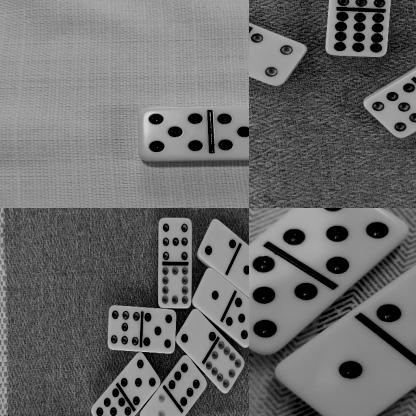pip-1: (275, 324, 416, 416), (193, 267, 232, 315), (233, 247, 249, 297)
pip-10: (206, 338, 245, 394), (159, 263, 192, 307)
pip-12: (327, 8, 391, 57)
pip-2: (198, 218, 236, 269), (176, 308, 217, 354)
pip-3: (141, 391, 178, 416)
pip-4: (249, 31, 307, 85)
pip-5: (283, 208, 408, 278), (249, 253, 319, 354), (377, 256, 416, 361), (142, 106, 212, 160), (212, 103, 249, 159), (121, 353, 160, 404), (142, 308, 176, 354), (226, 294, 249, 347)
pip-6: (168, 355, 206, 407)
pip-7: (364, 81, 416, 138), (107, 305, 142, 350), (158, 216, 192, 262)
pip-9: (91, 386, 132, 416)
